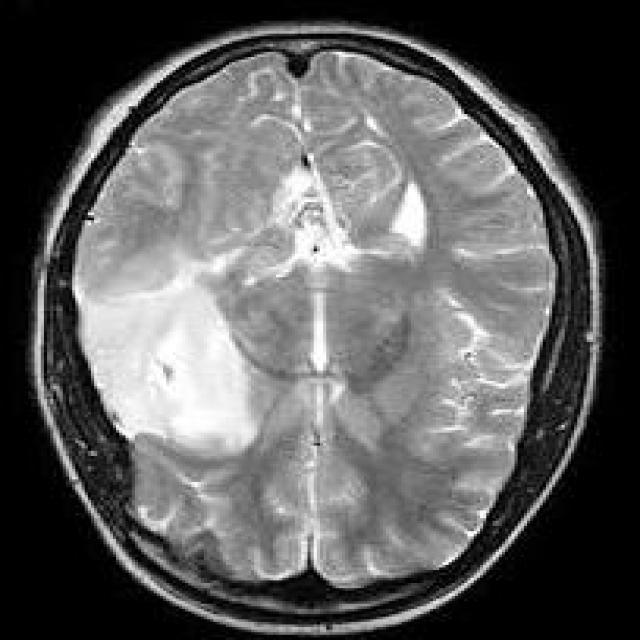brain tumor: (75, 288, 260, 459)
